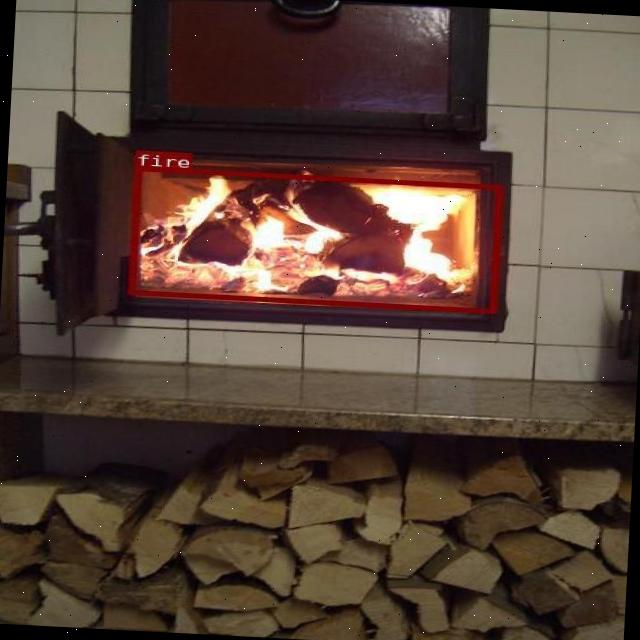fire: (127, 165, 502, 313)
